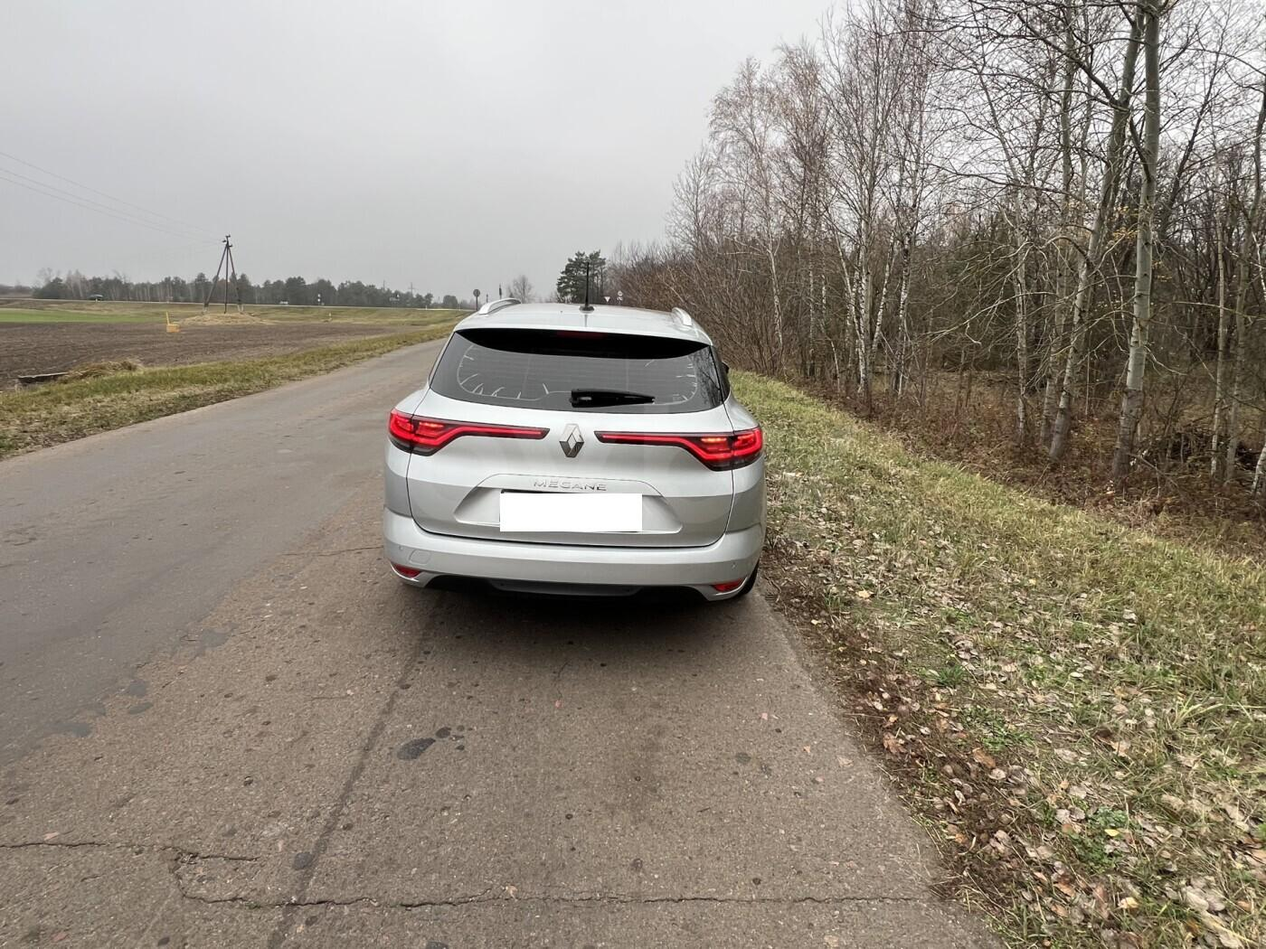Megane_2020: (382, 292, 775, 631)
